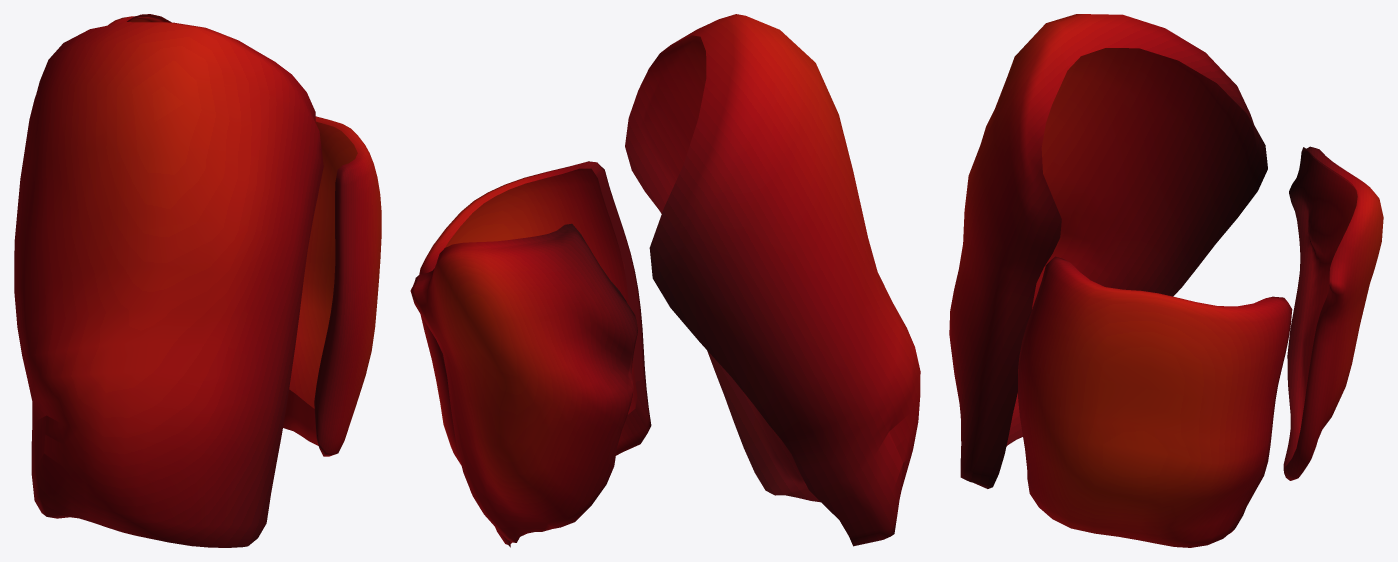
Rendered from Rock Right Leg Top.fbx.
The picture shows the model from 3 angles, left to right: view 1: azimuth 30°, elevation 25°; view 2: azimuth 150°, elevation 25°; view 3: azimuth 270°, elevation 25°; orthographic projection. The views are drawn at different scales.
Visible parts, largest first — view 1: Muslo_Izquierdo, MusloInterior_Derecho; view 2: Muslo_Izquierdo, Muslo_Tracero_Derecho, MusloInterior_Derecho; view 3: Muslo_Izquierdo, MusloInterior_Derecho, Muslo_Tracero_Derecho.
Part boxes in pixels (left/top/right/bottom): Muslo_Izquierdo: left=14, top=22, right=323, bottom=547; MusloInterior_Derecho: left=283, top=116, right=381, bottom=456; Muslo_Izquierdo: left=625, top=14, right=920, bottom=546; Muslo_Tracero_Derecho: left=410, top=223, right=637, bottom=542; MusloInterior_Derecho: left=419, top=161, right=651, bottom=547; Muslo_Izquierdo: left=949, top=14, right=1267, bottom=488; MusloInterior_Derecho: left=1018, top=256, right=1292, bottom=547; Muslo_Tracero_Derecho: left=1283, top=146, right=1383, bottom=480.
Bounding box in the file's own units: 0.7159 × 0.9002 × 0.7678.
